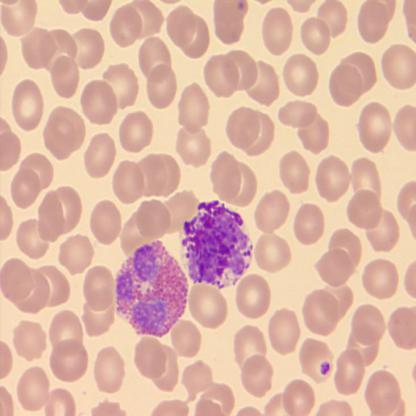Basophil: (180, 196, 257, 290)
